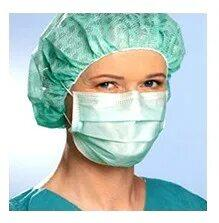hairnet: (25, 9, 194, 115)
mask: (54, 82, 185, 176)
